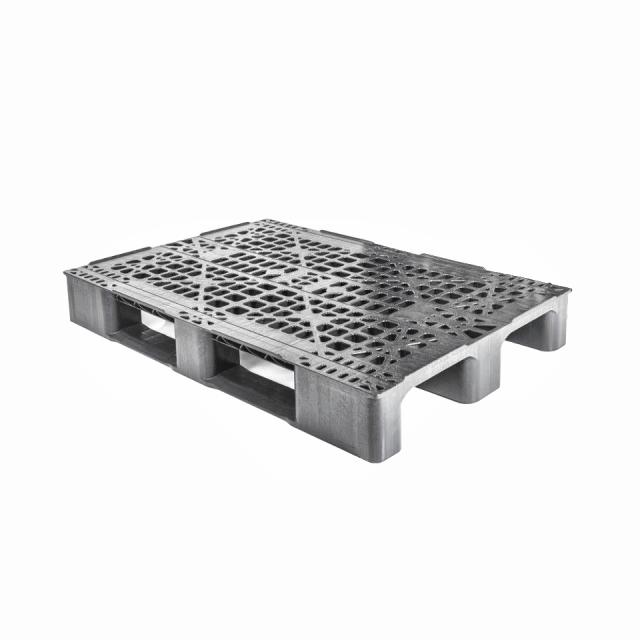non-igps: (50, 204, 582, 472)
